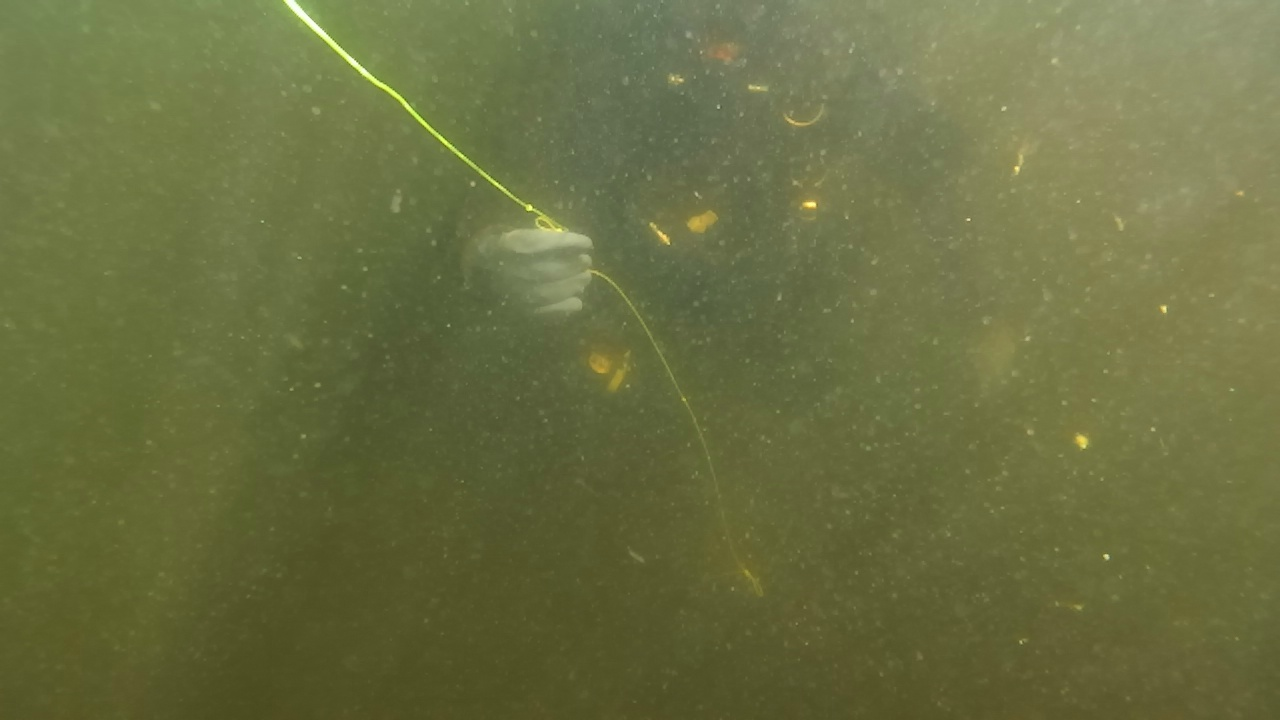Diver: (426, 2, 1002, 400)
Hand: (464, 206, 604, 348)
